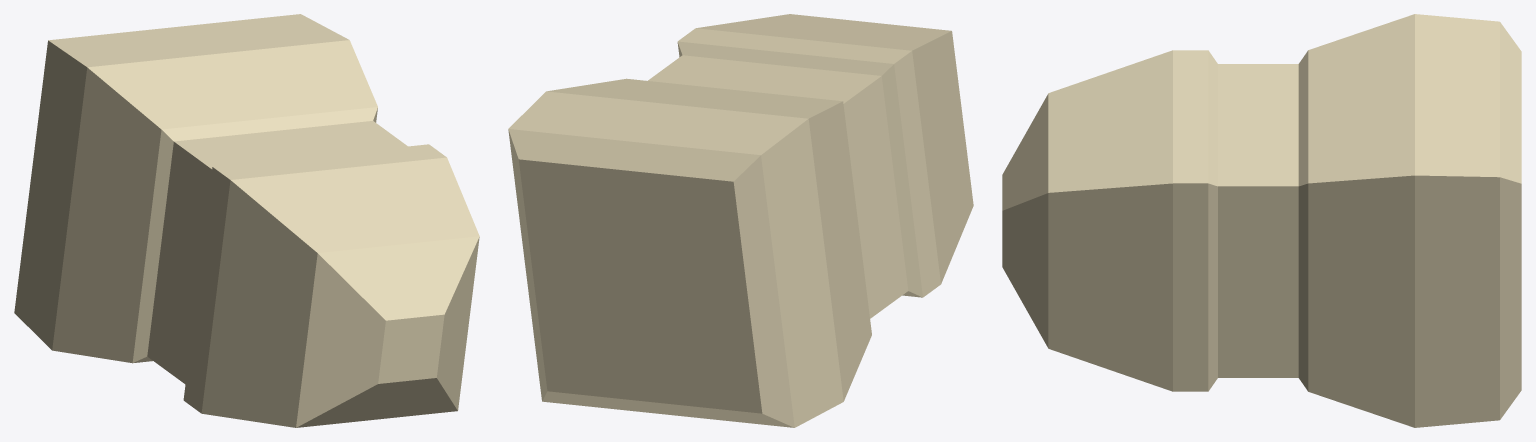
Rendered from bullet.fbx.
The picture shows the model from 3 angles, left to right: view 1: azimuth 30°, elevation 25°; view 2: azimuth 150°, elevation 25°; view 3: azimuth 270°, elevation 25°; orthographic projection. The views are drawn at different scales.
Visible parts, largest first — view 1: Plane; view 2: Plane; view 3: Plane.
Part boxes in pixels (left/top/right/bottom): Plane: left=14, top=14, right=479, bottom=427; Plane: left=508, top=14, right=973, bottom=427; Plane: left=1002, top=14, right=1521, bottom=427.
Bounding box in the file's own units: 0.0139 × 0.0215 × 0.0139.
